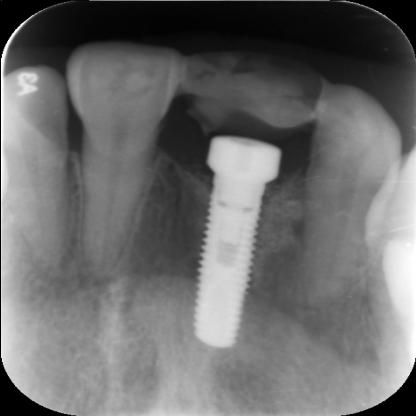Bego: (187, 134, 281, 348)
